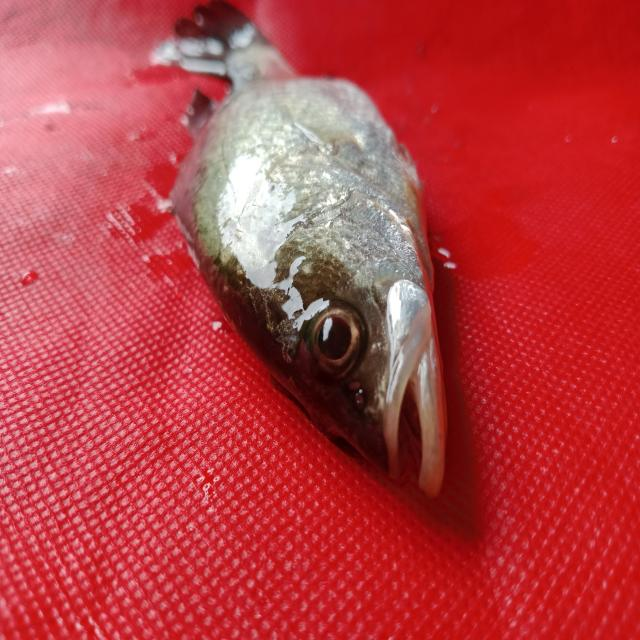ikan: (144, 4, 463, 508)
